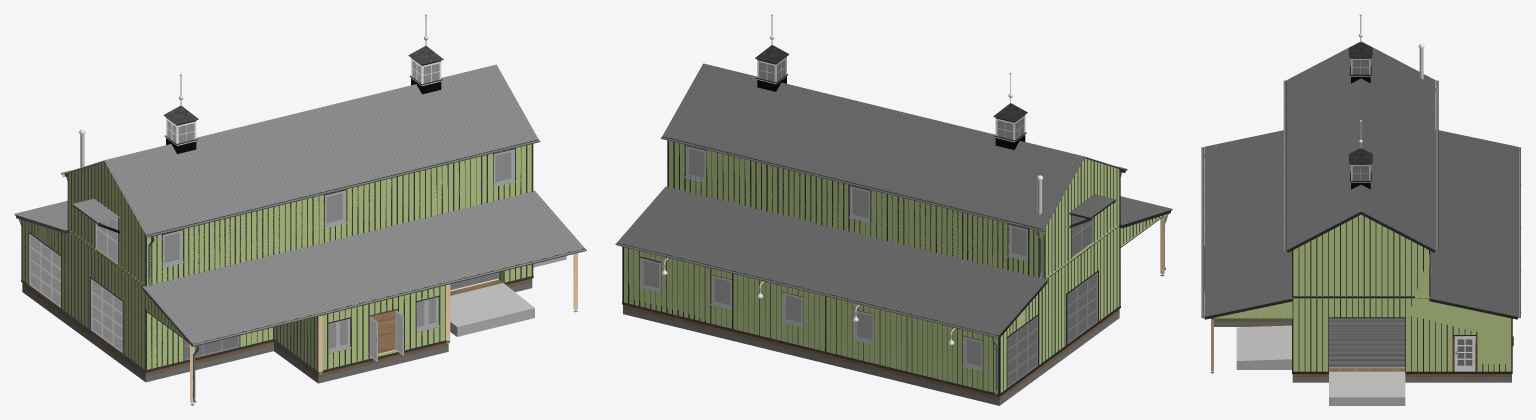
File: barn.fbx
3 renders of one model, left to right at view 1: azimuth 30°, elevation 25°; view 2: azimuth 150°, elevation 25°; view 3: azimuth 270°, elevation 25°, orthographic. The views are drawn at different scales.
Visible parts, largest first — view 1: Roof, WallsOuterRims, Walls004, Walls001, Walls008, FloorOutside, FloorGround, FloorFloor, Windows, Windows.002, Windows.001, Windows.004 (+3 smaller); view 2: Roof, WallsOuterRims, Walls002, Walls005, Walls001, Windows.004, FloorGround, Windows, FloorFloor, Windows.002, Windows.001, Windows.005 (+1 smaller); view 3: Roof, Walls003, WallsOuterRims, FloorOutside, Gates, FloorGround, FloorFloor, RoofSupport002, Door13, Extras.
Part boxes in pixels (box(x1,y1,x2,y2)): Roof: box(16, 64, 584, 346); WallsOuterRims: box(14, 46, 586, 405); Walls004: box(151, 145, 525, 368); Walls001: box(22, 162, 151, 369); Walls008: box(322, 285, 445, 370); FloorOutside: box(450, 256, 566, 336); FloorGround: box(22, 282, 532, 383); FloorFloor: box(22, 278, 532, 377); Windows: box(95, 149, 515, 267); Windows.002: box(91, 279, 122, 352); Windows.001: box(29, 234, 60, 307); Windows.004: box(328, 297, 440, 353); Roof: box(617, 63, 1170, 335); WallsOuterRims: box(615, 45, 1172, 396); Walls002: box(628, 245, 993, 392); Walls005: box(674, 142, 1038, 277); Walls001: box(994, 158, 1119, 393); Windows.004: box(639, 258, 982, 371); FloorGround: box(623, 308, 1119, 405); Windows: box(684, 146, 1093, 261); FloorFloor: box(623, 304, 1119, 399); Windows.002: box(1067, 272, 1097, 344); Windows.001: box(1007, 316, 1037, 387); Windows.005: box(848, 186, 870, 222); Roof: box(1204, 41, 1517, 319); Walls003: box(1293, 215, 1511, 371); WallsOuterRims: box(1201, 42, 1520, 373); FloorOutside: box(1236, 325, 1405, 405); Gates: box(1329, 318, 1405, 368); FloorGround: box(1214, 321, 1511, 382); FloorFloor: box(1214, 319, 1511, 377); RoofSupport002: box(1214, 301, 1292, 318); Door13: box(1455, 336, 1474, 371); Extras: box(1359, 14, 1521, 313).
Size of the model in its own units: 2395 by 1297 by 1618.
